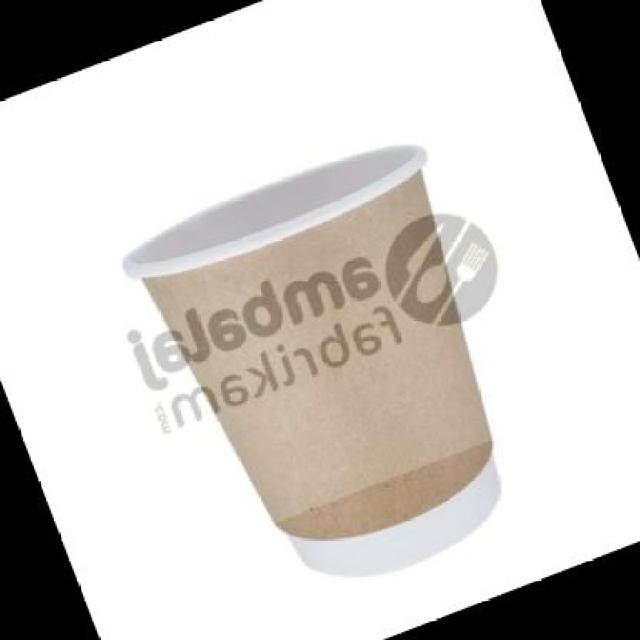non-biodegradable: (14, 87, 608, 640)
